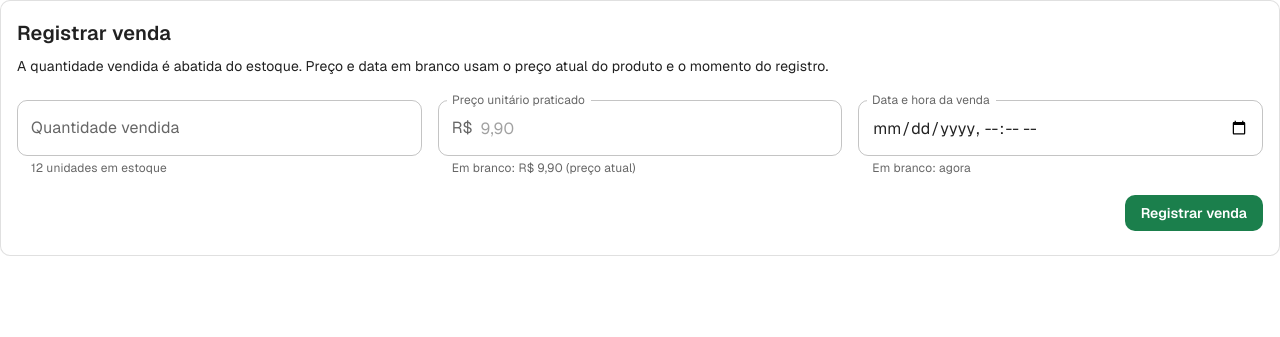
Test: RegisterSaleForm › explains the backend's 422 when the stock ran out meanwhile
Type "3" into the number field labelled "Quantidade vendida".
click(219, 128); type("3")  # box x1=17 y1=100 x2=422 y2=156
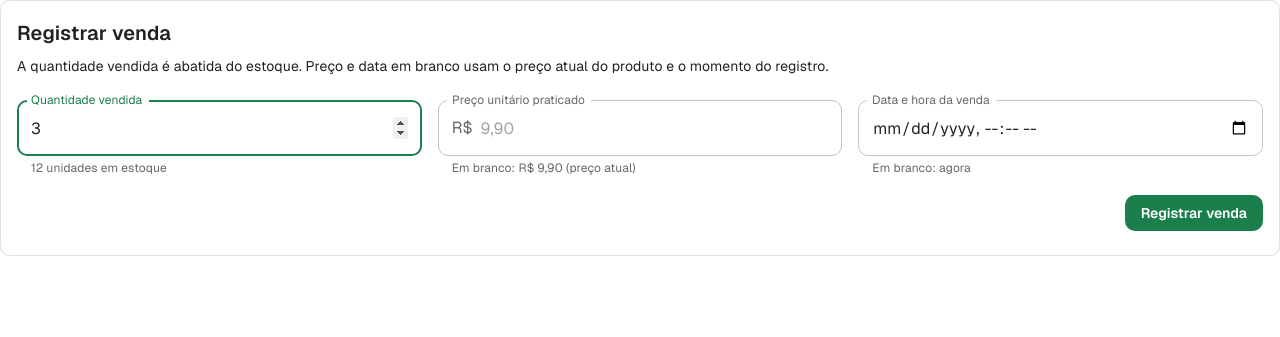
Click the button "Registrar venda".
click(1194, 213)  # box x1=1125 y1=195 x2=1263 y2=231
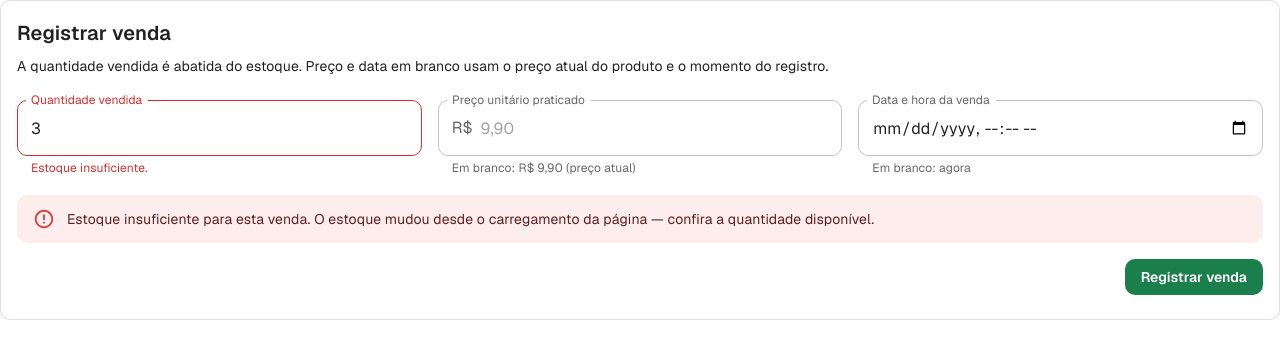
Check: the message shows "Estoque insuficiente para esta venda", box x1=67 y1=210 x2=874 y2=228
Check: the text "Estoque insuficiente." is shown, box x1=31 y1=160 x2=148 y2=176
